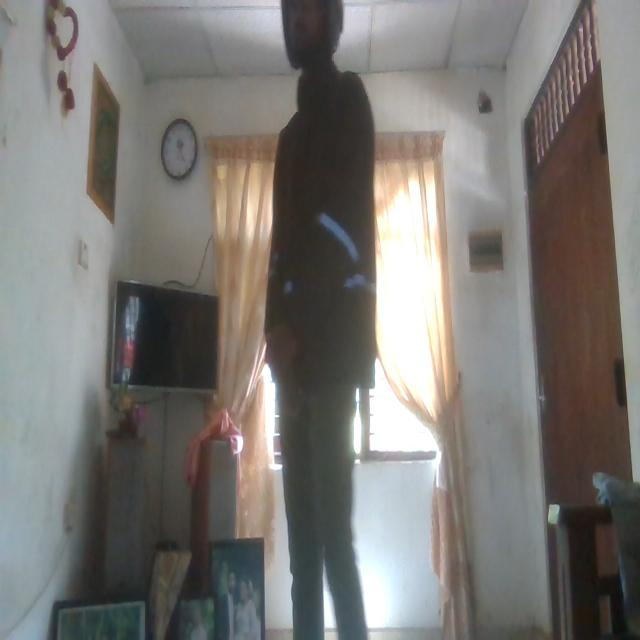Helmet_Wearer: (278, 0, 356, 63)
Jacket_Wearer: (264, 60, 375, 398)
Person: (272, 0, 374, 640)
